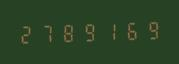eight: (57, 21, 76, 44)
nine: (77, 20, 96, 43), (137, 18, 156, 41)
one: (97, 19, 116, 43)
seven: (37, 21, 56, 45)
six: (117, 19, 136, 42)
two: (17, 22, 36, 45)
